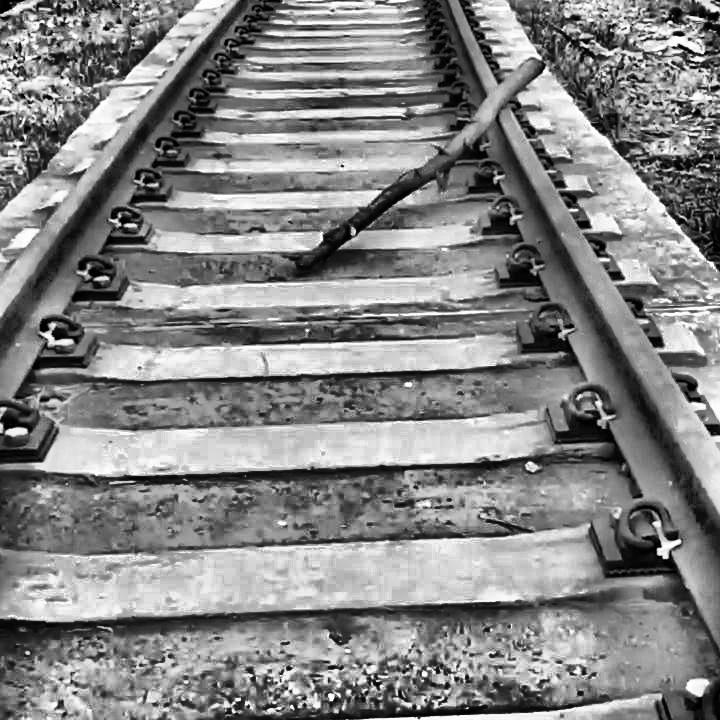Trash: (276, 48, 556, 281)
